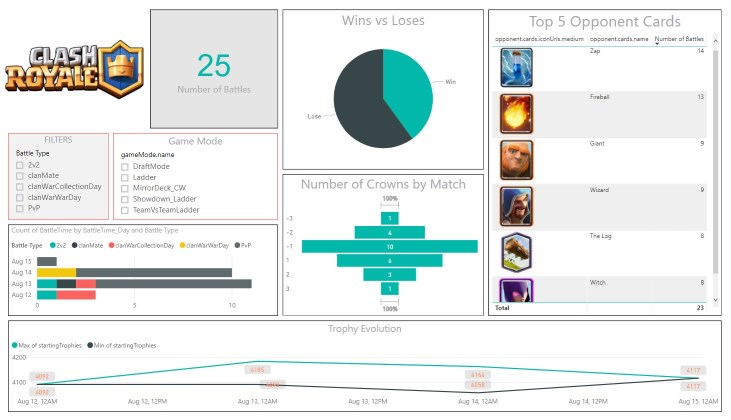

This screenshot's page, from the dashboard's own definition file:
{"tool":"powerbi","page":{"name":"Page 1","canvas":[1280,720],"ordinal":0},"visuals":[{"type":"pieChart","fields":{"Y":["Count(battlelog.BattleTime)"],"Category":["battlelog.WinStatus"]},"box":[496,0,352,280],"z":0},{"type":"slicer","fields":{"Values":["battlelog.Battle Type"]},"box":[15.9,216,176,152],"z":1},{"type":"tableEx","fields":{"Values":["battlelog.opponent.cards.iconUrls.medium","battlelog.opponent.cards.name","Count(battlelog.BattleTime)"]},"box":[856,0,408,536],"z":2},{"type":"funnel","fields":{"Category":["battlelog.WinLose"],"Y":["Count(battlelog.BattleTime)"]},"box":[496,288,352,248],"z":3},{"type":"card","fields":{"Values":["Count(battlelog.BattleTime)"]},"box":[264,0,224,208],"z":4},{"type":"barChart","fields":{"Category":["battlelog.BattleTime_Day"],"Y":["Count(battlelog.BattleTime)"],"Series":["battlelog.Battle Type"]},"box":[16,376,472,160],"z":5},{"type":"lineChart","fields":{"Y":["Max(battlelog.startingTrophies)","Min(battlelog.startingTrophies)"],"Category":["battlelog.BattleTime_Day"]},"box":[16,544,1248,160],"z":6},{"type":"slicer","fields":{"Values":["battlelog.gameMode.name"]},"box":[199.9,216,288,152],"z":7},{"type":"image","box":[0,0,264,208],"z":9}]}

Visuals, with their boxes in screenshot pixels (x1, y1, x2, y2), scaled from the page's 1280x720 canvas onto the 731x420 screenshot:
pieChart - Count(battlelog.BattleTime) x battlelog.WinStatus: (283, 0, 484, 163)
slicer - battlelog.Battle Type: (9, 126, 110, 215)
tableEx - battlelog.opponent.cards.iconUrls.medium x battlelog.opponent.cards.name: (489, 0, 722, 313)
funnel - battlelog.WinLose x Count(battlelog.BattleTime): (283, 168, 484, 313)
card - Count(battlelog.BattleTime): (151, 0, 279, 121)
barChart - battlelog.BattleTime_Day x Count(battlelog.BattleTime): (9, 219, 279, 313)
lineChart - Max(battlelog.startingTrophies) x Min(battlelog.startingTrophies): (9, 317, 722, 411)
slicer - battlelog.gameMode.name: (114, 126, 279, 215)
image: (0, 0, 151, 121)
